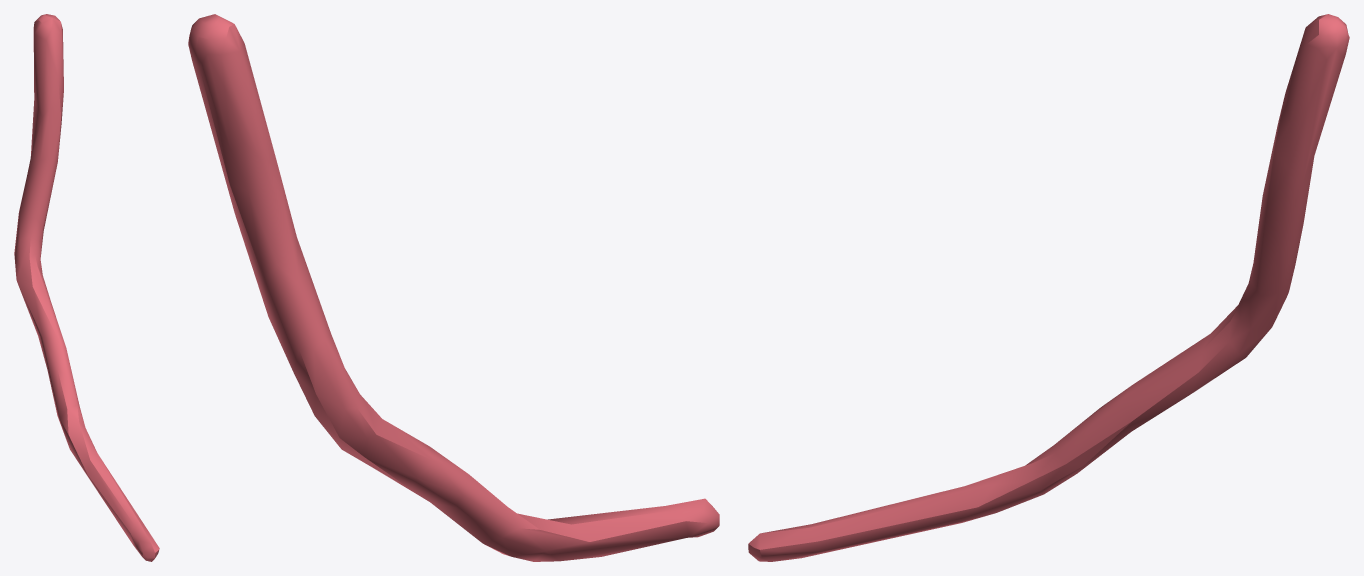
Rendered from fma4708_fj2704.glb.
3 views of the same model, side by side, from view 1: azimuth 30°, elevation 25°; view 2: azimuth 150°, elevation 25°; view 3: azimuth 270°, elevation 25° (orthographic). The views are drawn at different scales.
Visible parts, largest first — view 1: FMA4708_FJ2704; view 2: FMA4708_FJ2704; view 3: FMA4708_FJ2704.
Boxes of the visible parts, x1,y1,x2,y2 form: FMA4708_FJ2704: (14,14,159,561); FMA4708_FJ2704: (188,14,719,561); FMA4708_FJ2704: (748,14,1349,561).
Size of the model in its own units: 0.00369 by 0.0136 by 0.0123.
